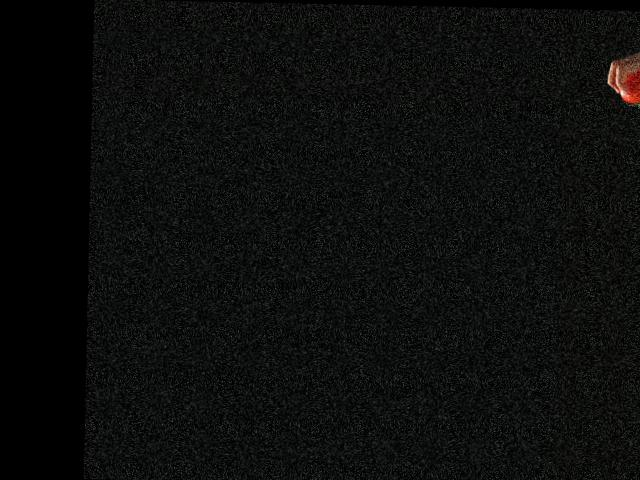tomato: (620, 72, 640, 108)
